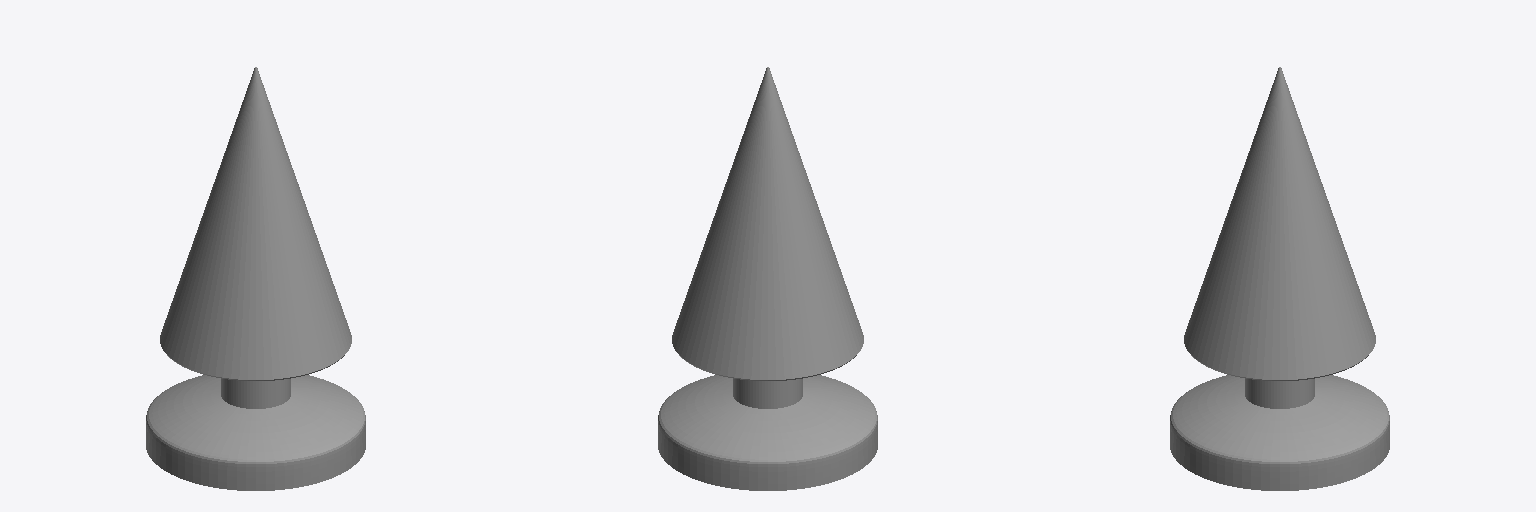
Rendered from pawn_swedish.obj.
The picture shows the model from 3 angles: view 1: azimuth 30°, elevation 25°; view 2: azimuth 150°, elevation 25°; view 3: azimuth 270°, elevation 25°; orthographic projection.
Visible parts, largest first — view 1: piece2.001; view 2: piece2.001; view 3: piece2.001.
Boxes of the visible parts, <box> form: piece2.001: <box>146,67,365,490</box>; piece2.001: <box>658,67,877,490</box>; piece2.001: <box>1170,67,1389,490</box>.
Bounding box in the file's own units: 18.54 × 34.99 × 18.54.